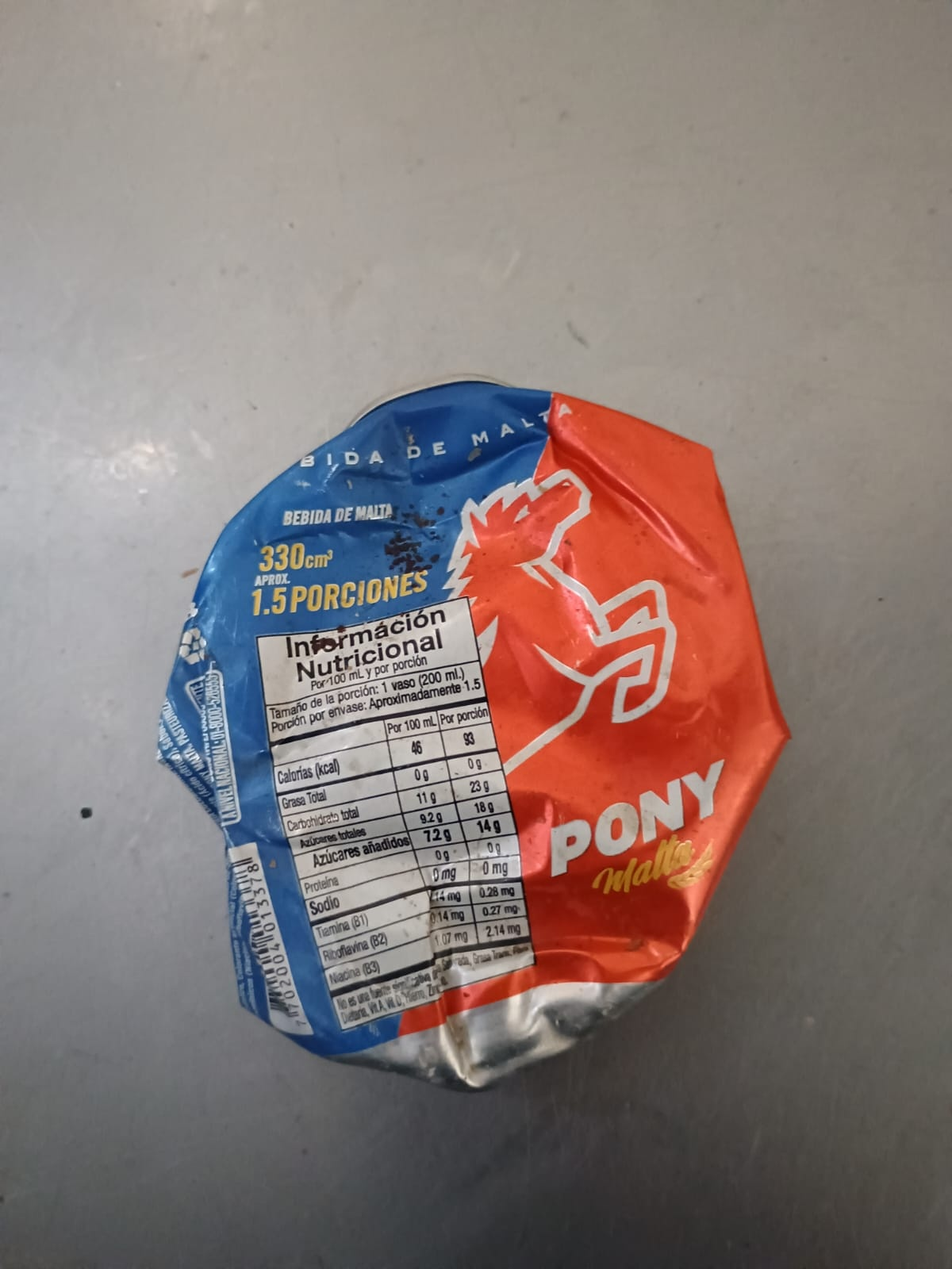Metal: (159, 377, 793, 1087)
